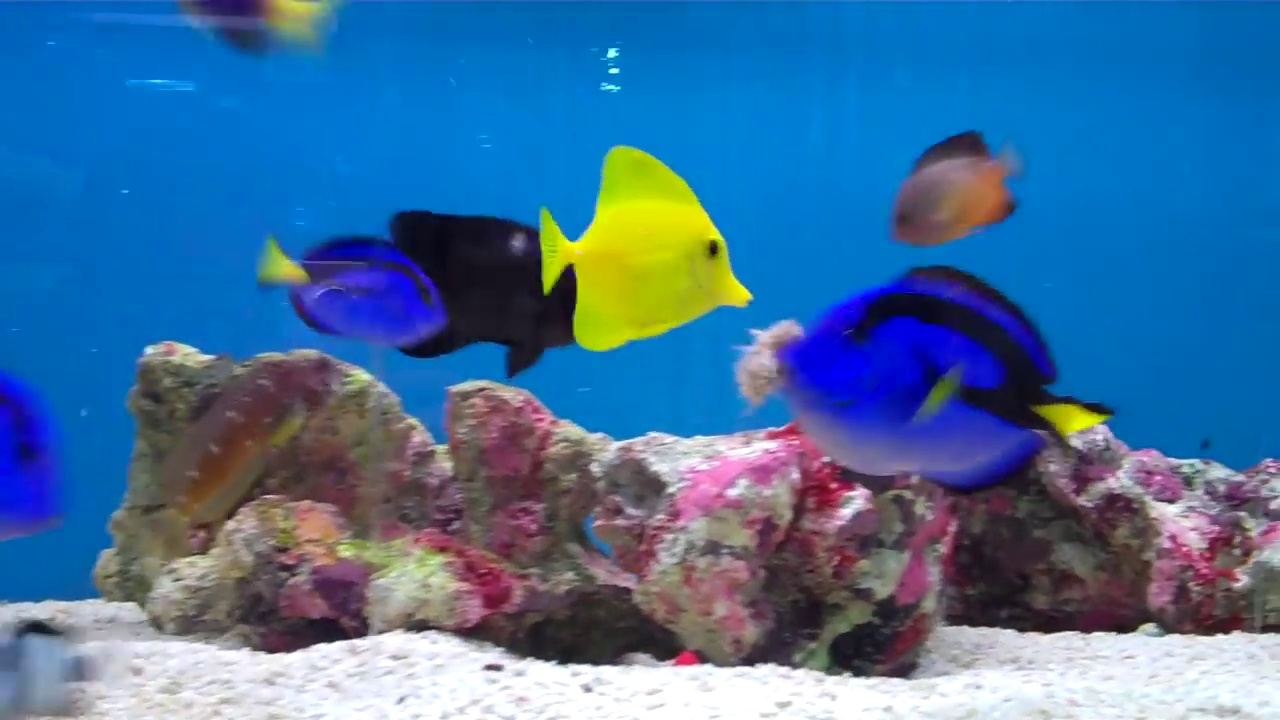blue tang surgeonfish: (777, 264, 1126, 484), (253, 227, 451, 359)
saddle butterfly fish: (527, 151, 756, 356)
